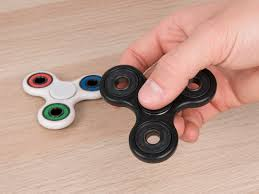fidget_spinner: (95, 60, 221, 163), (18, 55, 109, 131)
